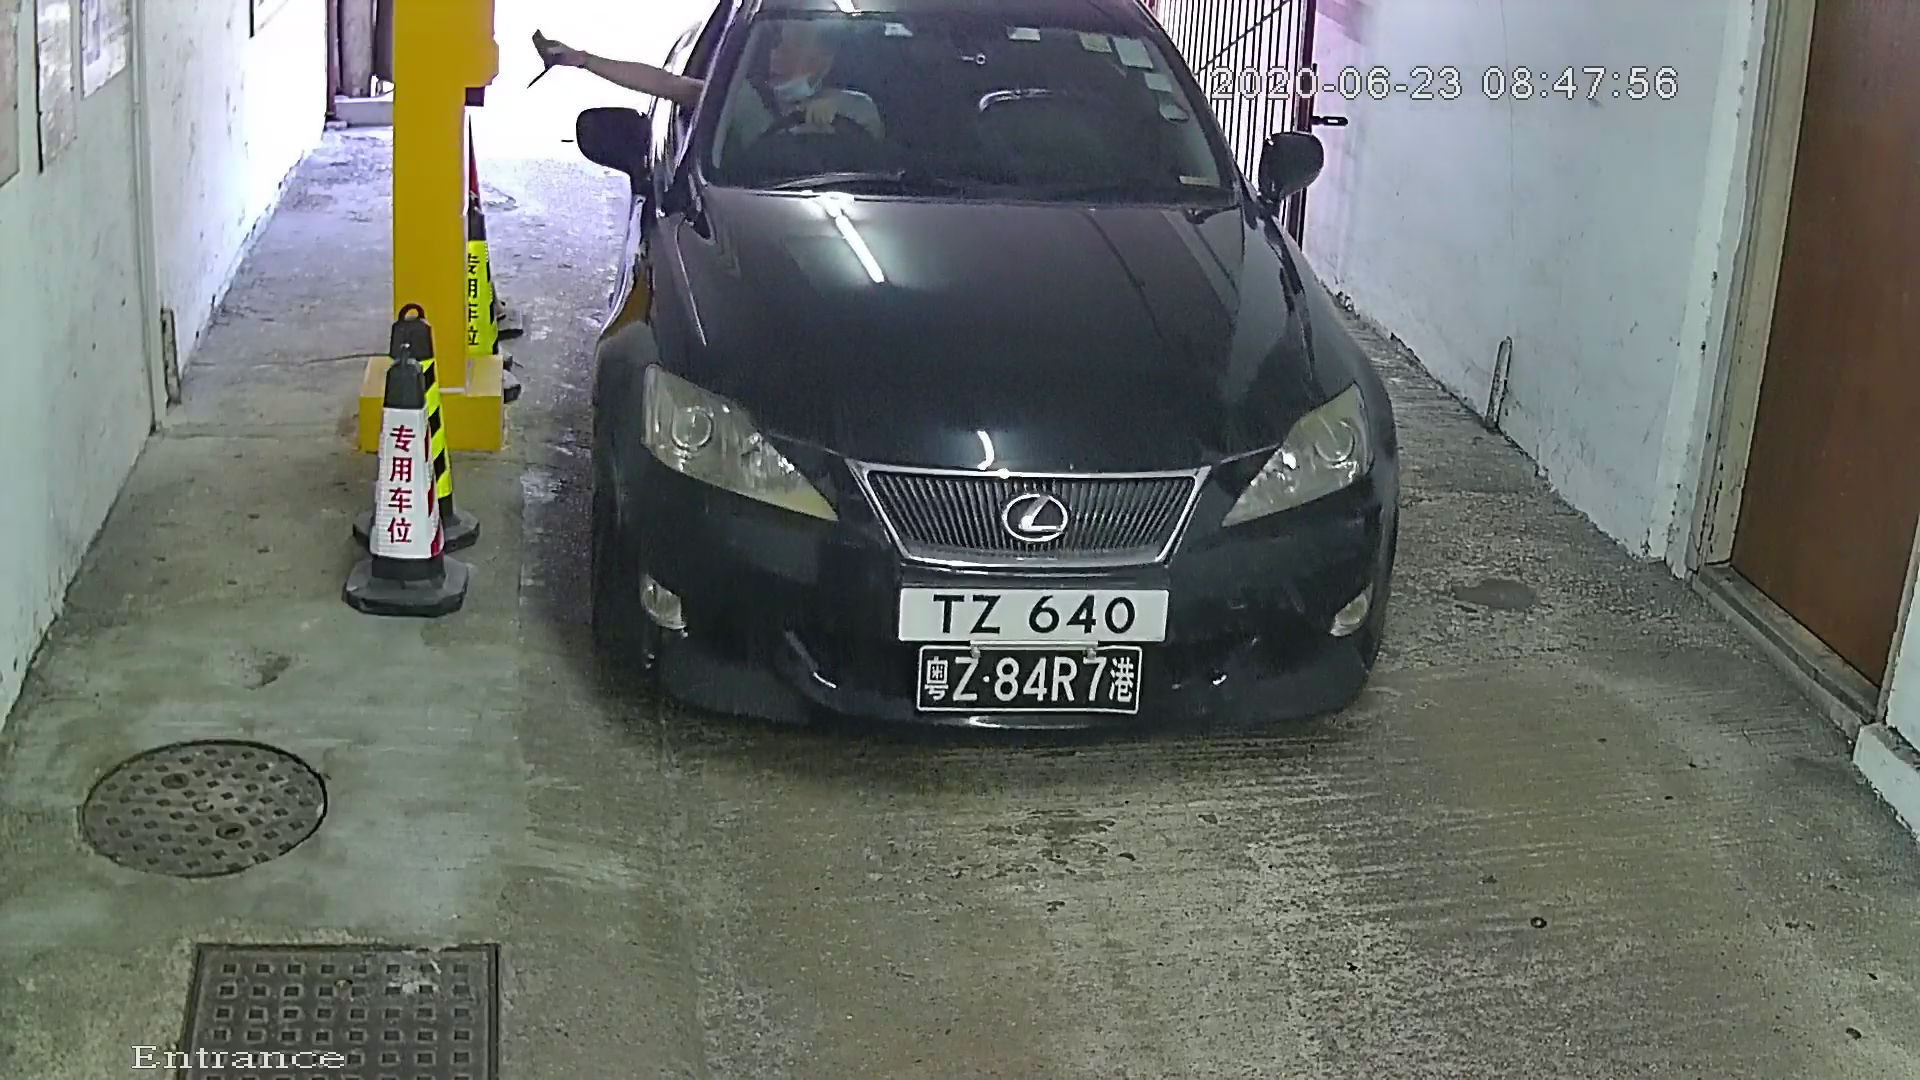privatecar: (558, 3, 1469, 819)
